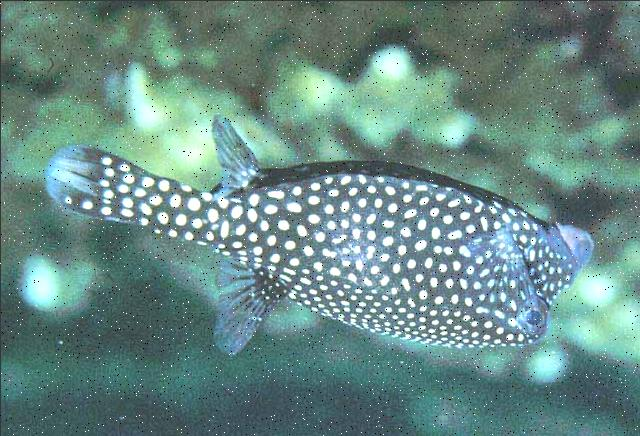Sirip Anal: (190, 106, 274, 210)
Sirip Dada: (450, 203, 554, 341)
Sirip Ekor: (26, 120, 188, 258)
Sirip Punggung: (189, 222, 301, 368)
